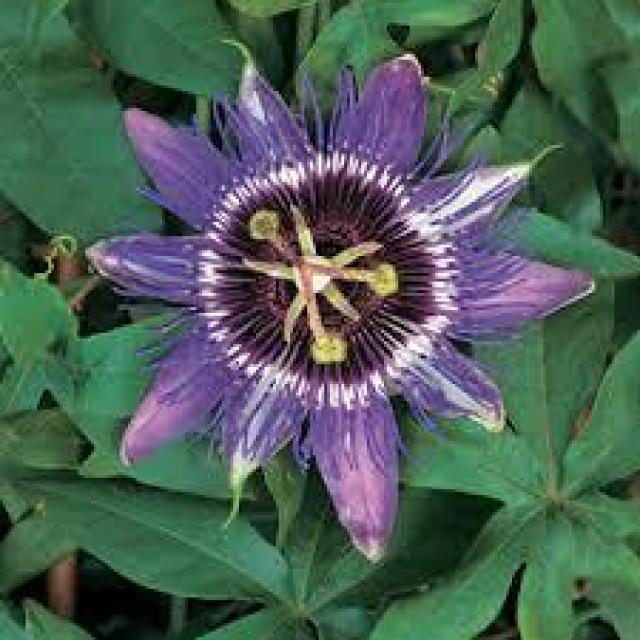organic waste: (77, 51, 580, 549)
